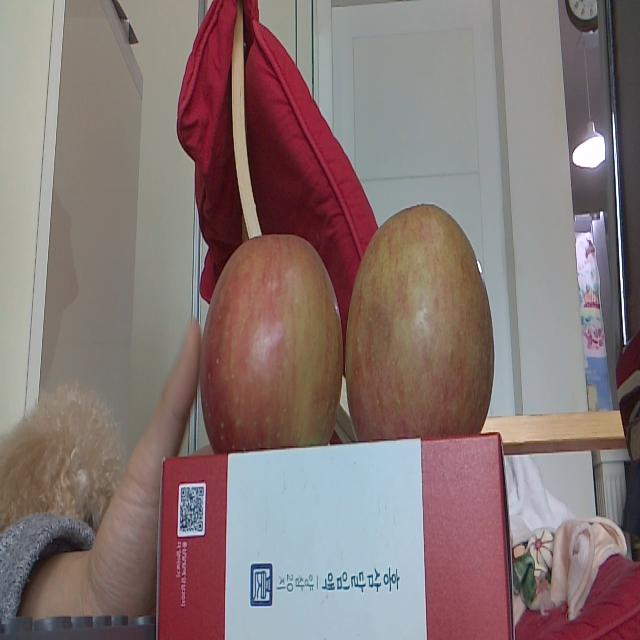apple: (344, 199, 496, 443), (200, 228, 344, 454)
